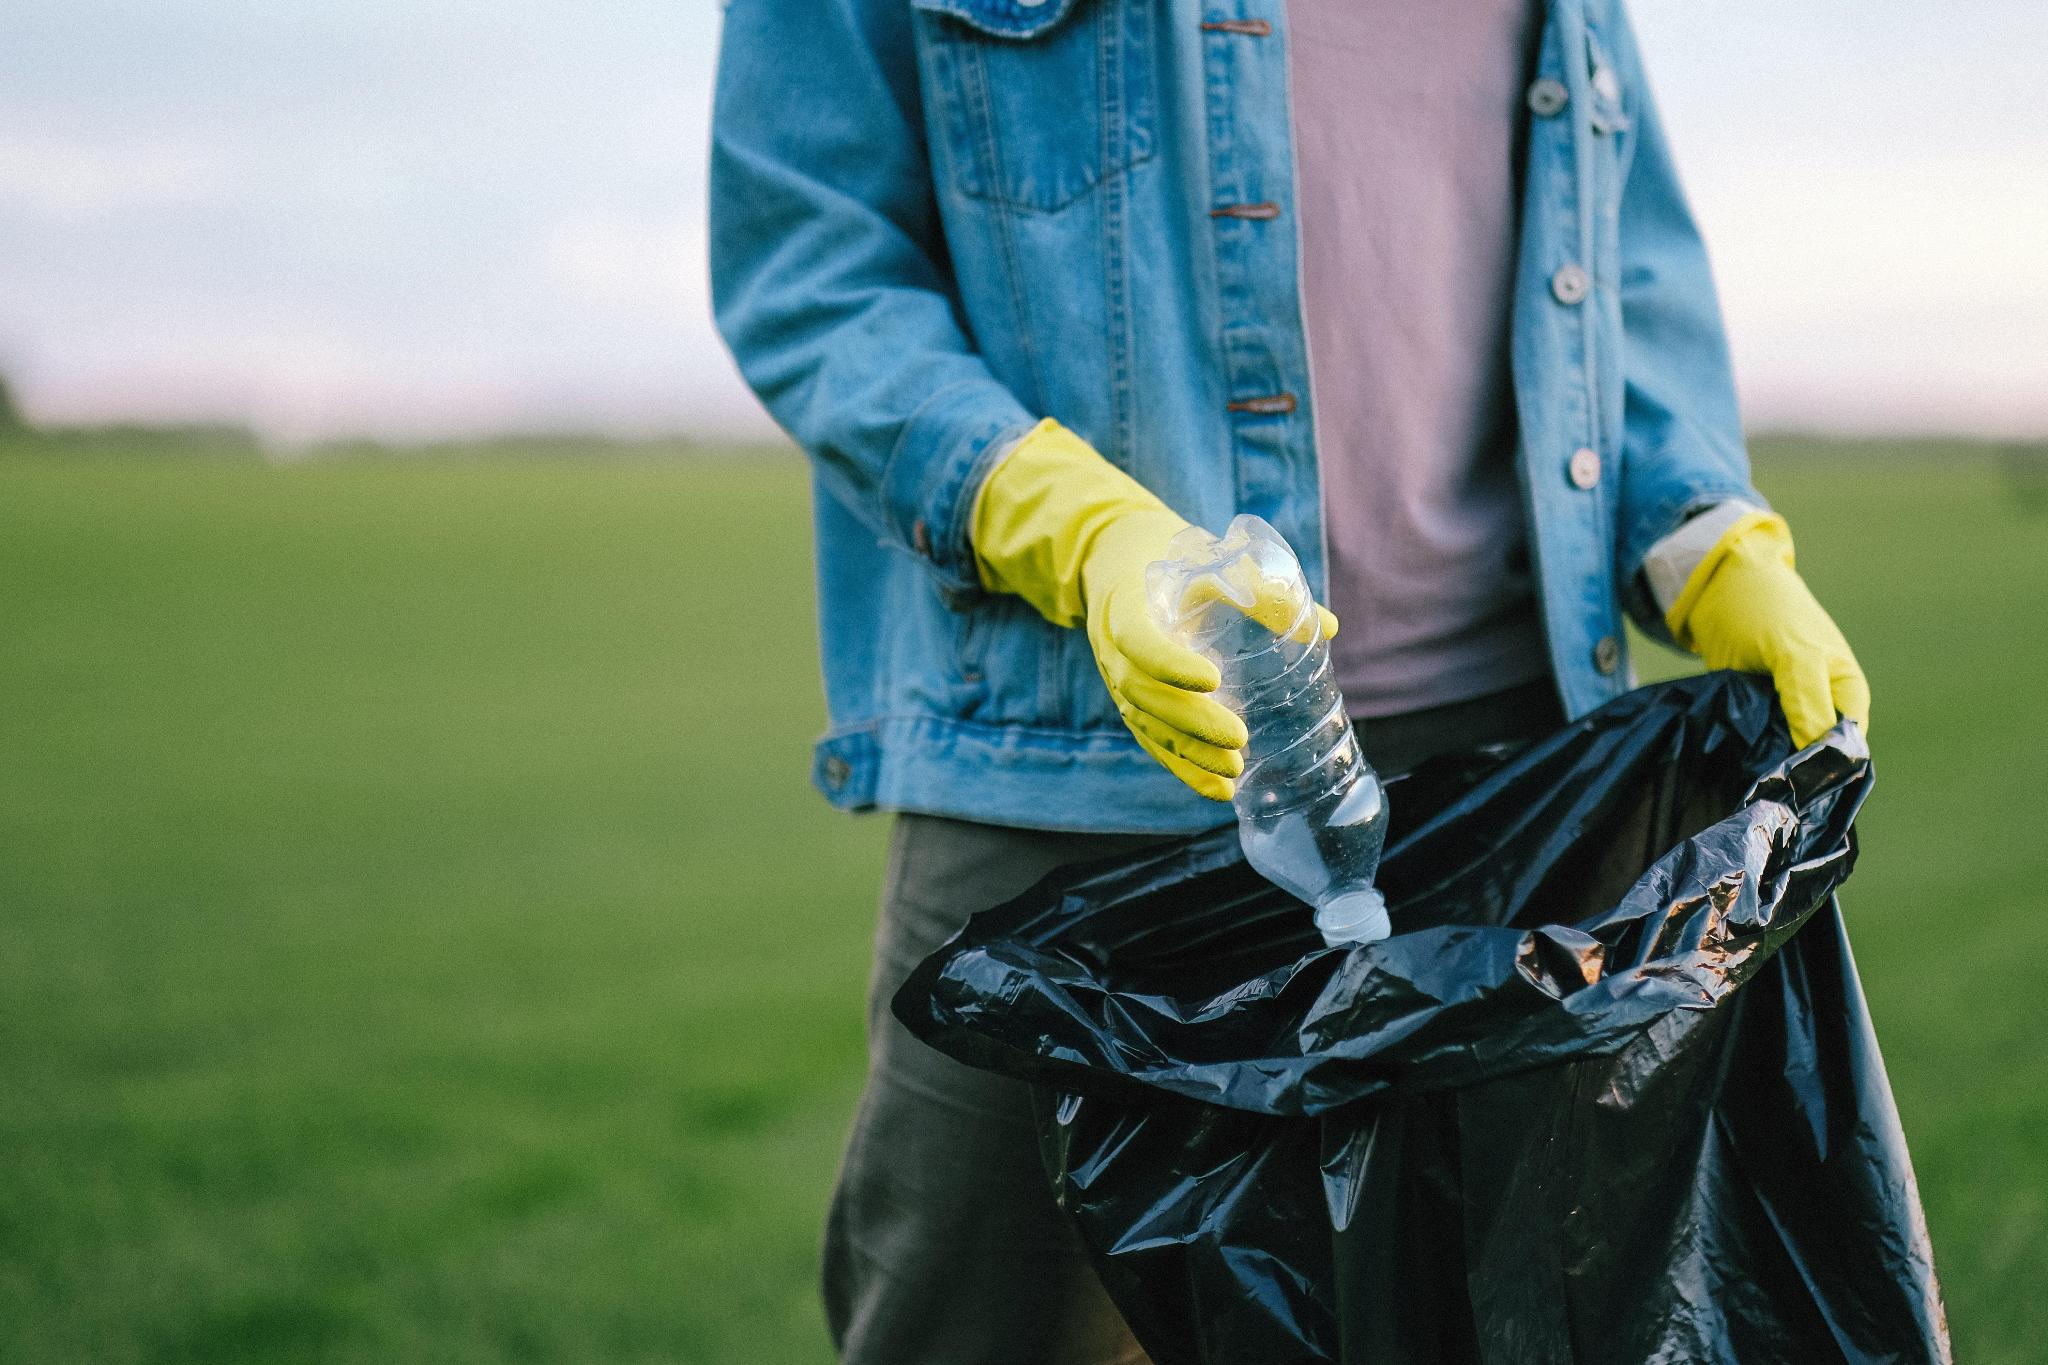bottle: (1147, 504, 1422, 975)
